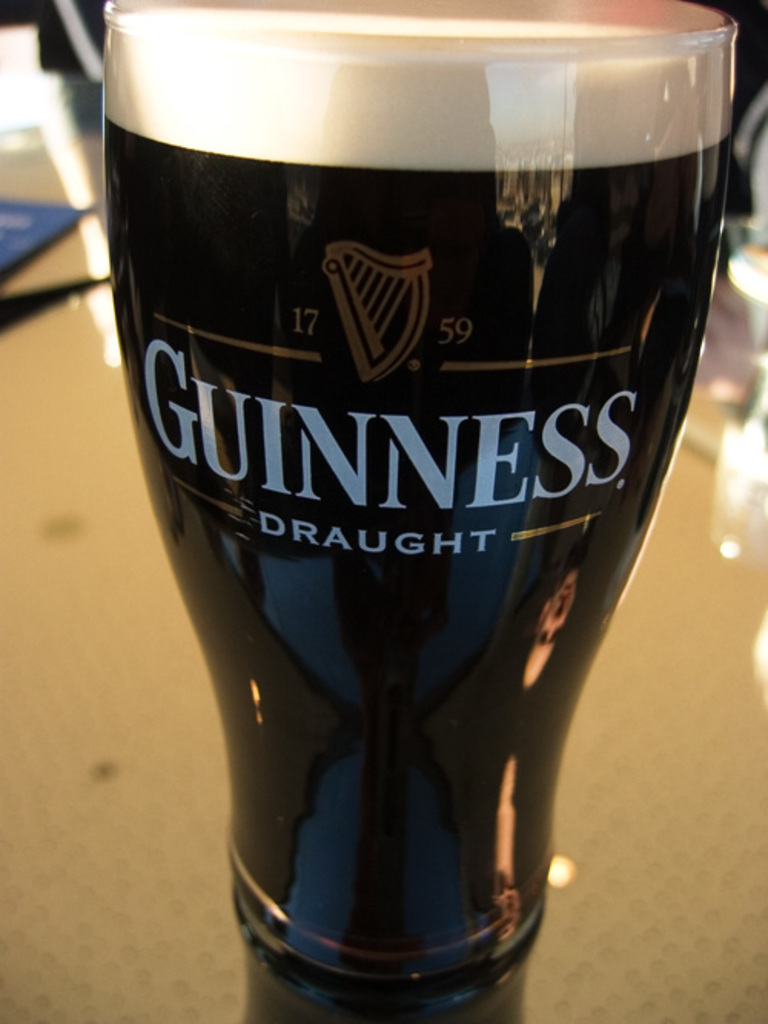Beer: (84, 0, 724, 997)
